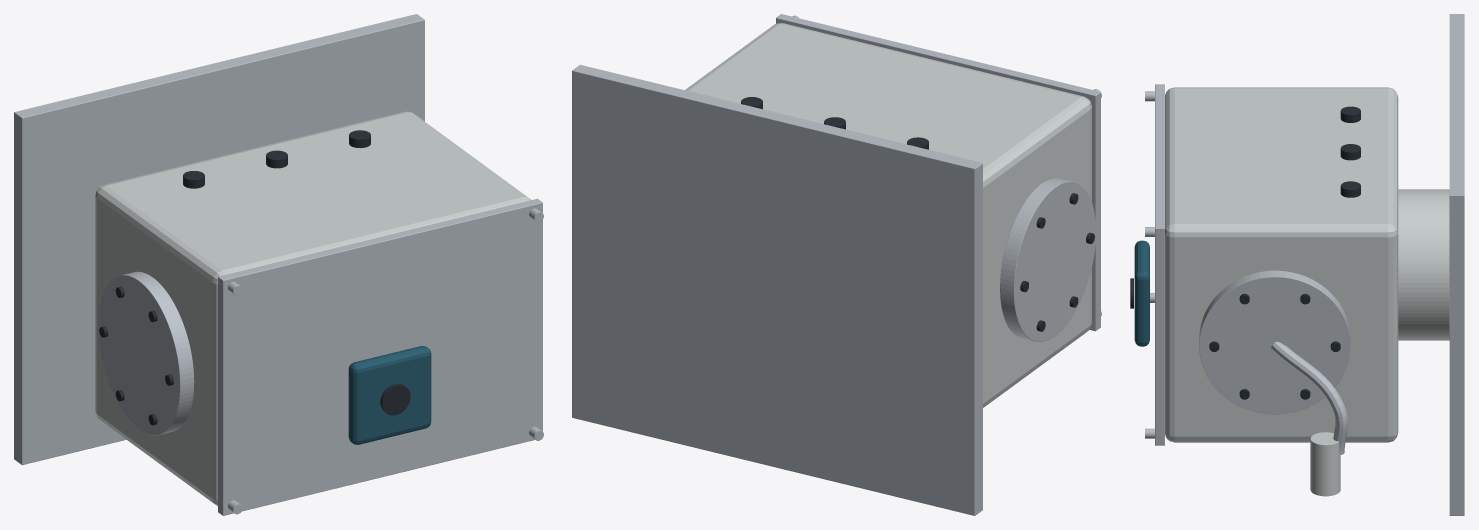
The model's file is prepared_tracker.glb.
3 renders of one model, left to right at view 1: azimuth 30°, elevation 25°; view 2: azimuth 150°, elevation 25°; view 3: azimuth 270°, elevation 25°, orthographic. The views are drawn at different scales.
Visible parts, largest first — view 1: EKO_STR_32G__top_cover, EKO_STR_32G__selected_mount_plate, EKO_STR_32G__body, EKO_STR_32G__elevation_flange_-0.145, EKO_STR_32G__GPS_housing, EKO_STR_32G__GPS_sensor; view 2: EKO_STR_32G__selected_mount_plate, EKO_STR_32G__body, EKO_STR_32G__elevation_flange_-0.145, EKO_STR_32G__top_cover; view 3: EKO_STR_32G__body, EKO_STR_32G__elevation_flange_0.145, EKO_STR_32G__selected_mount_plate, EKO_STR_32G__azimuth_mount, EKO_STR_32G__top_cover, EKO_STR_32G__sun_sensor, EKO_STR_32G__sun_sensor_arm, EKO_STR_32G__GPS_housing.
Boxes of the visible parts, box(x1,y1,x2,y2) form: EKO_STR_32G__top_cover: box(218, 198, 542, 515); EKO_STR_32G__selected_mount_plate: box(14, 14, 424, 465); EKO_STR_32G__body: box(95, 111, 531, 505); EKO_STR_32G__elevation_flange_-0.145: box(98, 271, 194, 435); EKO_STR_32G__GPS_housing: box(348, 346, 431, 444); EKO_STR_32G__GPS_sensor: box(380, 383, 410, 415); EKO_STR_32G__selected_mount_plate: box(572, 64, 982, 515); EKO_STR_32G__body: box(685, 23, 1091, 407); EKO_STR_32G__elevation_flange_-0.145: box(1000, 178, 1095, 341); EKO_STR_32G__top_cover: box(776, 14, 1100, 331); EKO_STR_32G__body: box(1165, 87, 1398, 442); EKO_STR_32G__elevation_flange_0.145: box(1199, 270, 1350, 414); EKO_STR_32G__selected_mount_plate: box(1449, 14, 1464, 515); EKO_STR_32G__azimuth_mount: box(1398, 189, 1449, 340); EKO_STR_32G__top_cover: box(1155, 84, 1164, 445); EKO_STR_32G__sun_sensor: box(1310, 432, 1340, 496); EKO_STR_32G__sun_sensor_arm: box(1271, 341, 1347, 455); EKO_STR_32G__GPS_housing: box(1134, 240, 1149, 346).
Bounding box in the file's own units: 0.362 × 0.28 × 0.2645.
